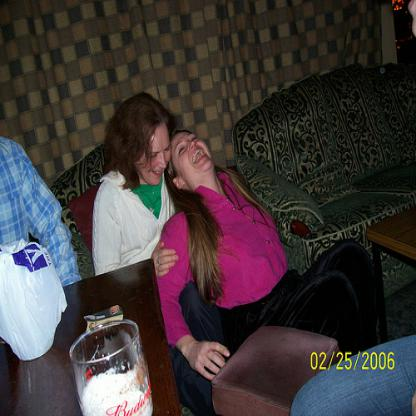sofa: (231, 61, 415, 297)
